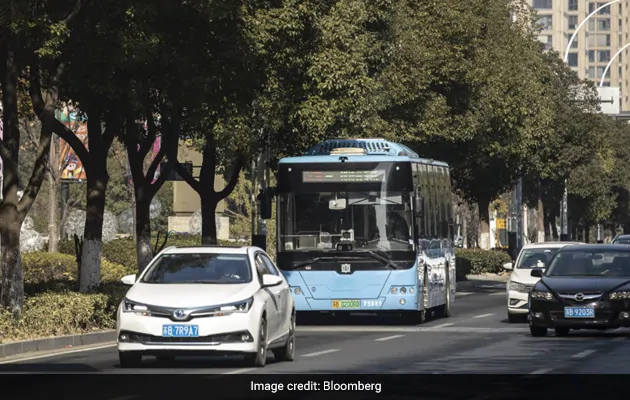bus: (277, 146, 453, 327)
car: (117, 245, 296, 362), (530, 245, 629, 338), (506, 241, 585, 316)
